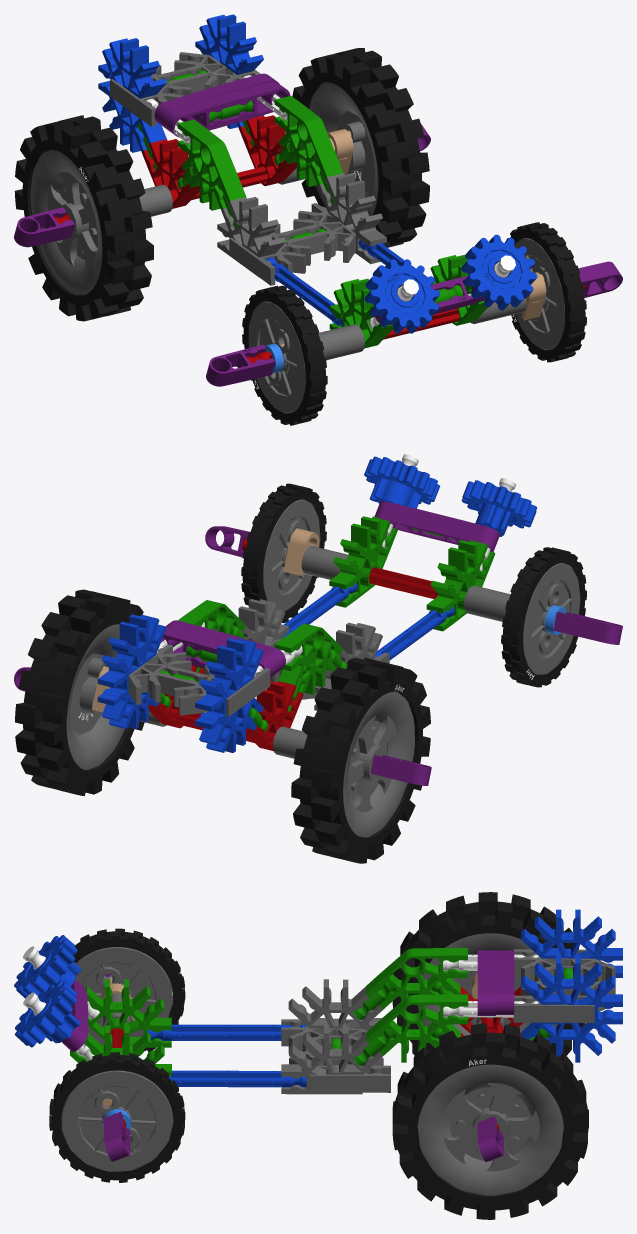
3 renders of one model, top to bottom at view 1: azimuth 30°, elevation 25°; view 2: azimuth 150°, elevation 25°; view 3: azimuth 270°, elevation 25°, orthographic. The views are drawn at different scales.
Parts seen in each view (by area): view 1: P1_L07.011; view 2: P1_L07.011; view 3: P1_L07.011.
Boxes of the visible parts, x1,y1,x2,y2 form: P1_L07.011: (14,14,622,425); P1_L07.011: (14,454,622,863); P1_L07.011: (14,892,622,1219).
Bounding box in the file's own units: 1.35 × 0.6716 × 1.78.
